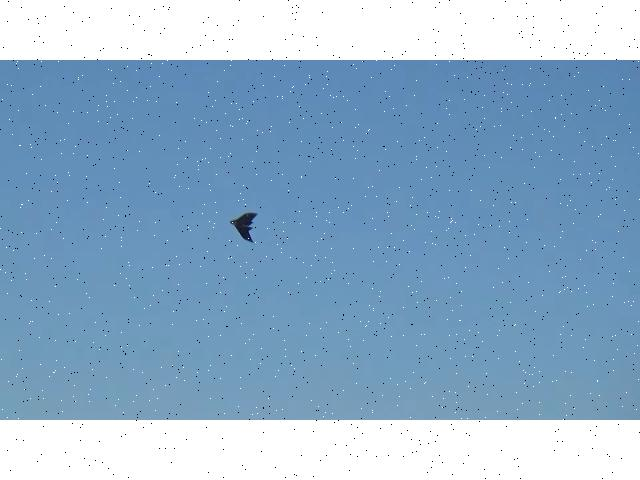Anti-Drone: (216, 205, 268, 248)
